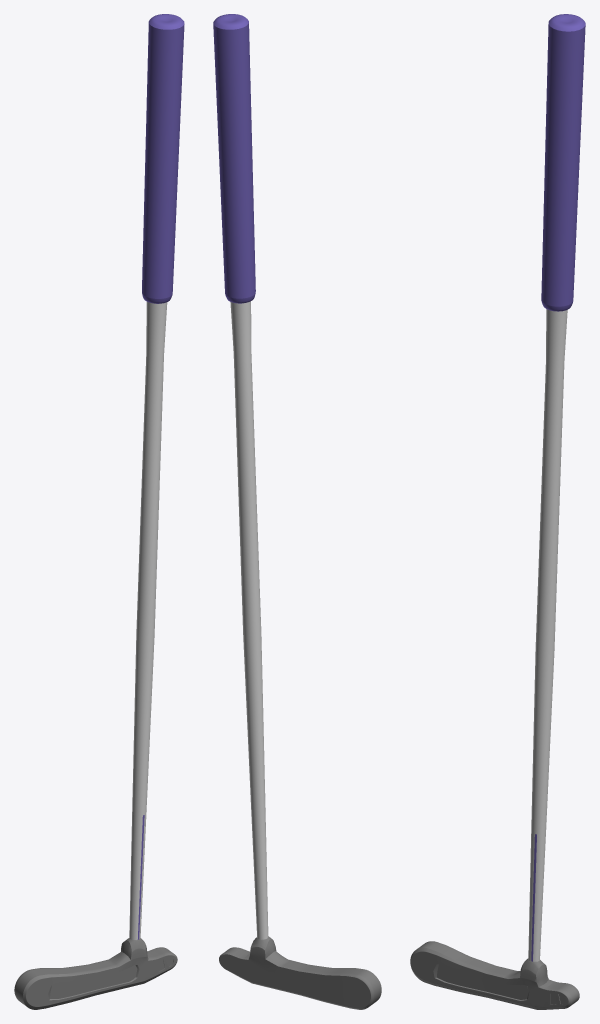
File: FBX-golf-club.fbx
The picture shows the model from 3 angles, left to right: view 1: azimuth 30°, elevation 25°; view 2: azimuth 150°, elevation 25°; view 3: azimuth 330°, elevation 25°; orthographic projection. The views are drawn at different scales.
Visible parts, largest first — view 1: pCylinder5; view 2: pCylinder5; view 3: pCylinder5.
Part boxes in pixels (x1,y1,x2,y2): pCylinder5: (14, 14, 184, 1009); pCylinder5: (213, 14, 381, 1009); pCylinder5: (410, 14, 585, 1009).
Bounding box in the file's own units: 0.0289 × 0.1622 × 0.00552.
